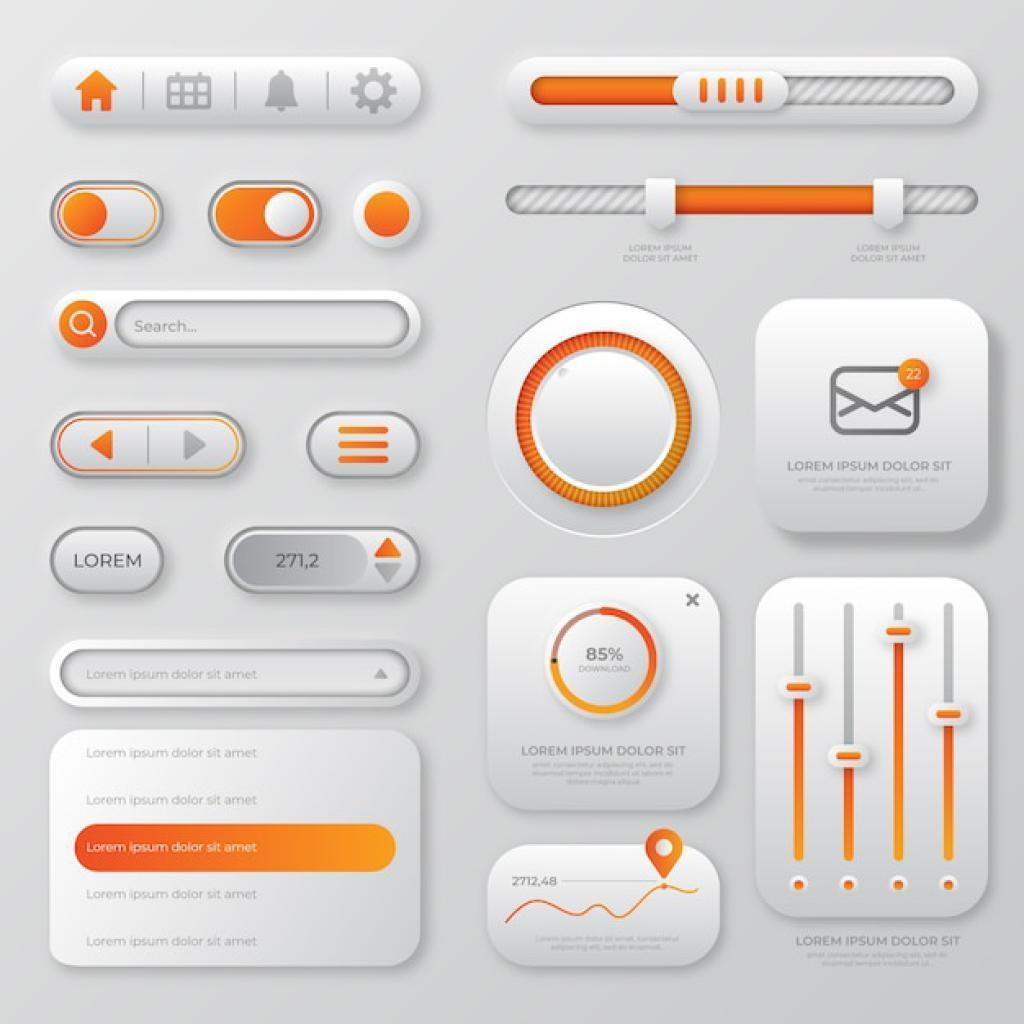button: (74, 824, 399, 875), (52, 527, 164, 595)
dropdown: (46, 639, 424, 712)
icon: (824, 361, 933, 440), (330, 420, 400, 473), (350, 62, 404, 121), (160, 67, 219, 118), (74, 70, 123, 116), (264, 67, 304, 120), (89, 426, 123, 464), (177, 428, 211, 464)
input: (56, 294, 424, 360)
radio: (352, 181, 426, 252)
slider: (509, 46, 985, 135), (505, 175, 986, 235), (830, 588, 879, 900), (776, 579, 821, 904), (881, 582, 919, 905), (936, 590, 971, 905)
switch: (50, 180, 169, 253), (211, 180, 325, 252)
